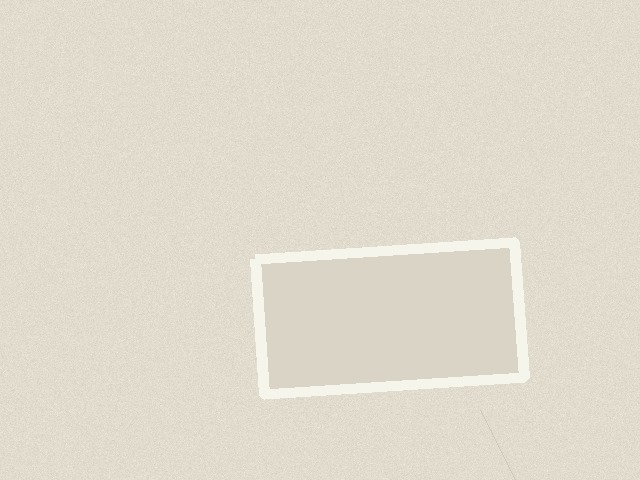parking_area: (255, 242, 524, 394)
